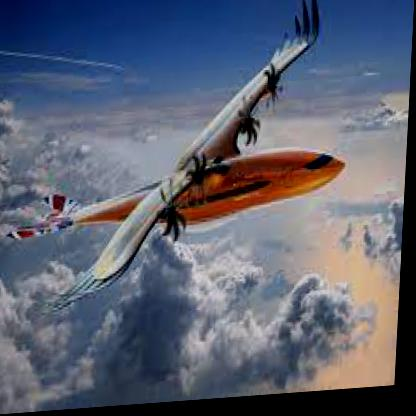Aircraft: (5, 0, 355, 314)
